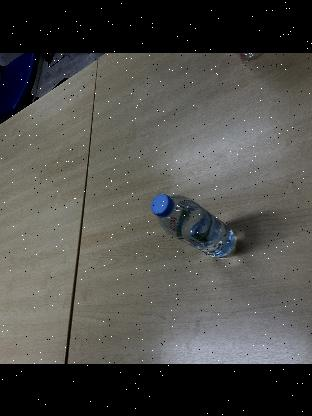Plastic Bottle: (149, 192, 239, 258)
